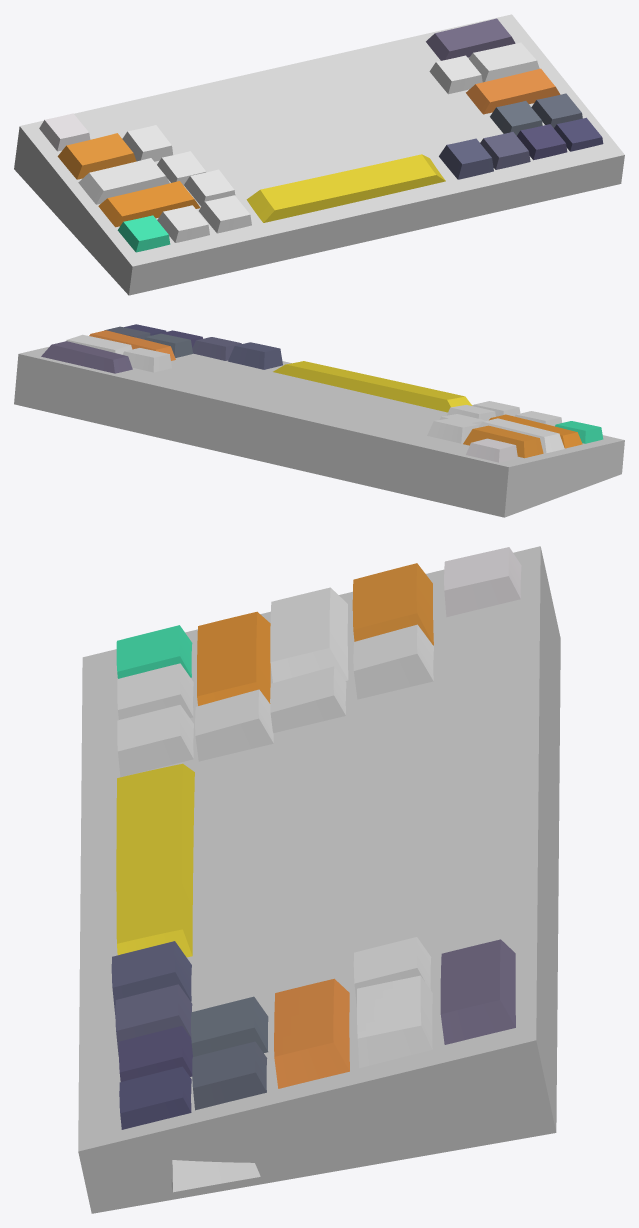
3 views of the same model, one above another, from view 1: azimuth 30°, elevation 25°; view 2: azimuth 150°, elevation 25°; view 3: azimuth 270°, elevation 25° (orthographic). The views are drawn at different scales.
Visible parts, largest first — view 1: Plane, Plane.007, Plane.009, Plane.006, Plane.008, Plane.016, Plane.002, Plane.005, Plane.018, Plane.012, Plane.015, Plane.011 (+10 smaller); view 2: Plane, Plane.007, Plane.016, Plane.002, Plane.018, Plane.008, Plane.001, Plane.015, Plane.004, Plane.019, Plane.006, Plane.009 (+7 smaller); view 3: Plane, Plane.007, Plane.006, Plane.016, Plane.008, Plane.009, Plane.005, Plane.002, Plane.004, Plane.012, Plane.014, Plane.001 (+11 smaller).
Part boxes in pixels (box(x1,y1,x2,y2)): Plane: box(14, 14, 624, 295); Plane.007: box(246, 154, 445, 222); Plane.009: box(98, 181, 200, 227); Plane.006: box(466, 68, 560, 114); Plane.008: box(78, 158, 169, 204); Plane.016: box(426, 18, 515, 60); Plane.002: box(57, 133, 136, 179); Plane.005: box(468, 42, 539, 82); Plane.018: box(439, 138, 493, 179); Plane.012: box(199, 195, 251, 233); Plane.015: box(429, 55, 482, 94); Plane.011: box(157, 205, 209, 242); Plane: box(14, 346, 624, 517); Plane.007: box(273, 361, 472, 412); Plane.016: box(41, 341, 132, 373); Plane.002: box(463, 425, 543, 458); Plane.018: box(228, 342, 282, 369); Plane.008: box(479, 418, 564, 453); Plane.001: box(466, 438, 517, 462); Plane.015: box(122, 348, 171, 372); Plane.004: box(427, 418, 478, 443); Plane.019: box(192, 337, 241, 360); Plane.006: box(89, 330, 175, 360); Plane.009: box(489, 414, 582, 448); Plane: box(78, 546, 560, 1213); Plane.007: box(116, 763, 194, 957); Plane.006: box(274, 978, 349, 1088); Plane.016: box(440, 939, 515, 1044); Plane.008: box(270, 587, 348, 682); Plane.009: box(197, 611, 270, 705); Plane.005: box(357, 975, 432, 1068); Plane.002: box(352, 563, 433, 645); Plane.004: box(353, 624, 433, 699); Plane.012: box(117, 705, 193, 777); Plane.014: box(195, 689, 273, 761); Plane.001: box(444, 547, 521, 617).
Size of the model in its own units: 4.25 by 0.8408 by 1.79.
